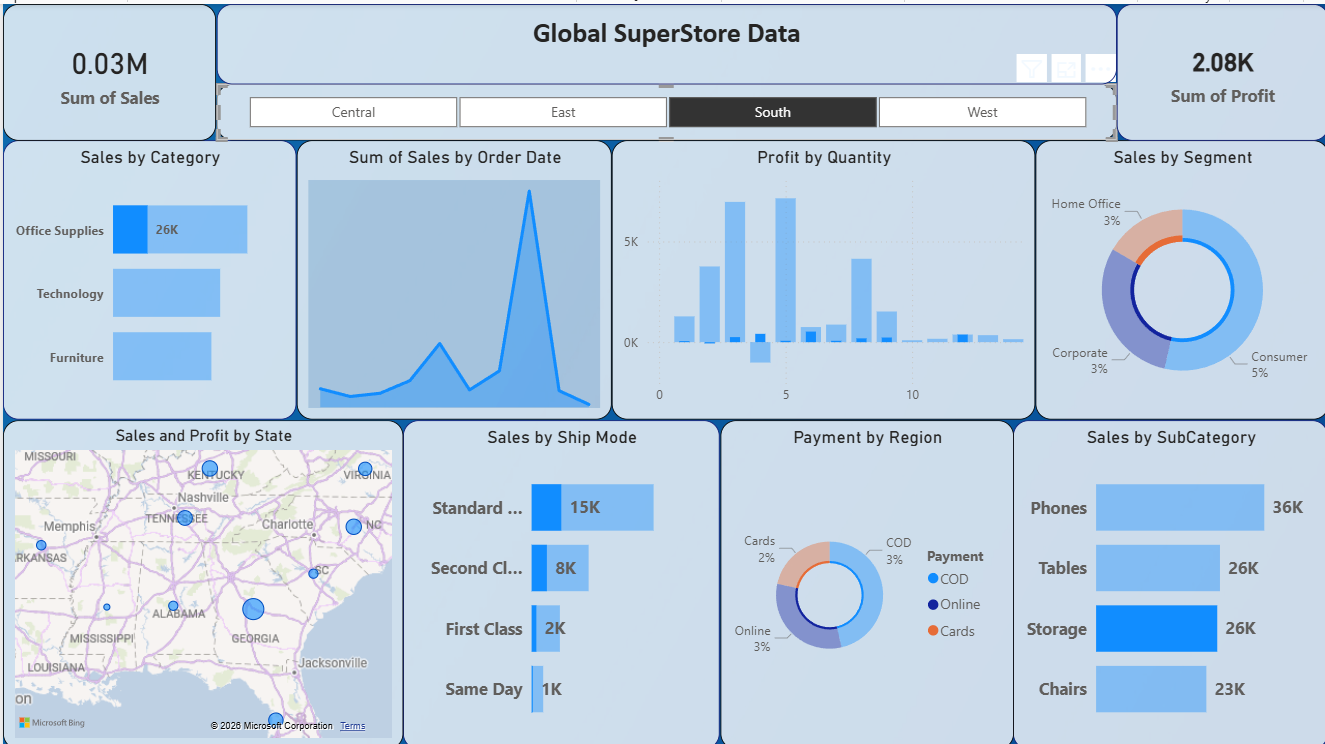

What the dashboard file says about the page in this screenshot:
{"tool":"powerbi","page":{"name":"Page 1","canvas":[1280,720],"ordinal":0},"visuals":[{"type":"clusteredBarChart","title":"Sales by Category","fields":{"Y":["Sum(SuperStore_Sales_Dataset.Sales)"],"Category":["SuperStore_Sales_Dataset.Category"]},"box":[0,131.7,283.2,269.5],"z":0},{"type":"clusteredBarChart","title":"Sales by SubCategory","fields":{"Y":["Sum(SuperStore_Sales_Dataset.Sales)"],"Category":["SuperStore_Sales_Dataset.Sub-Category"]},"box":[975.1,401.3,304.4,318],"z":1000},{"type":"clusteredBarChart","title":"Sales by Ship Mode","fields":{"Y":["Sum(SuperStore_Sales_Dataset.Sales)"],"Category":["SuperStore_Sales_Dataset.Ship Mode"]},"box":[386.1,401.3,305.9,318],"z":2000},{"type":"stackedAreaChart","title":"Sum of Sales by Order Date ","fields":{"Category":["SuperStore_Sales_Dataset.Order Date"],"Y":["Sum(SuperStore_Sales_Dataset.Sales)"]},"box":[283.2,131.7,304.4,269.5],"z":3000},{"type":"map","title":"Sales and Profit by State","fields":{"Category":["SuperStore_Sales_Dataset.State"],"Size":["Sum(SuperStore_Sales_Dataset.Sales)"]},"box":[0,401.3,386.1,318],"z":4000},{"type":"donutChart","title":"Sales by Segment","fields":{"Category":["SuperStore_Sales_Dataset.Segment"],"Y":["Sum(SuperStore_Sales_Dataset.Sales)"]},"box":[996.3,131.7,283.2,269.5],"z":5000},{"type":"donutChart","title":"Payment by Region","fields":{"Category":["SuperStore_Sales_Dataset.Payment Mode"],"Y":["CountNonNull(SuperStore_Sales_Dataset.Region)"]},"box":[692,401.3,283.2,318],"z":6000},{"type":"slicer","fields":{"Values":["SuperStore_Sales_Dataset.Region"]},"box":[205.9,77.2,869.2,54.5],"z":7000},{"type":"textbox","box":[205.9,0,869.2,77.2],"z":8000},{"type":"card","fields":{"Values":["Sum(SuperStore_Sales_Dataset.Profit)"]},"box":[1075.1,0,204.4,131.7],"z":9000},{"type":"card","fields":{"Values":["Sum(SuperStore_Sales_Dataset.Sales)"]},"box":[0,0,205.9,131.7],"z":10000},{"type":"clusteredColumnChart","title":" Profit by Quantity","fields":{"Category":["SuperStore_Sales_Dataset.Quantity"],"Y":["Sum(SuperStore_Sales_Dataset.Profit)"]},"box":[587.5,131.7,408.8,269.5],"z":11000}]}

Visuals, with their boxes in screenshot pixels (x1, y1, x2, y2), scaled from the page's 1280x720 canvas onto the 1325x744 screenshot:
"Sales by Category" clusteredBarChart: l=0, t=136, r=293, b=415
"Sales by SubCategory" clusteredBarChart: l=1009, t=415, r=1324, b=743
"Sales by Ship Mode" clusteredBarChart: l=400, t=415, r=716, b=743
"Sum of Sales by Order Date " stackedAreaChart: l=293, t=136, r=608, b=415
"Sales and Profit by State" map: l=0, t=415, r=400, b=743
"Sales by Segment" donutChart: l=1031, t=136, r=1324, b=415
"Payment by Region" donutChart: l=716, t=415, r=1009, b=743
slicer - SuperStore_Sales_Dataset.Region: l=213, t=80, r=1113, b=136
textbox: l=213, t=0, r=1113, b=80
card - Sum(SuperStore_Sales_Dataset.Profit): l=1113, t=0, r=1324, b=136
card - Sum(SuperStore_Sales_Dataset.Sales): l=0, t=0, r=213, b=136
" Profit by Quantity" clusteredColumnChart: l=608, t=136, r=1031, b=415
